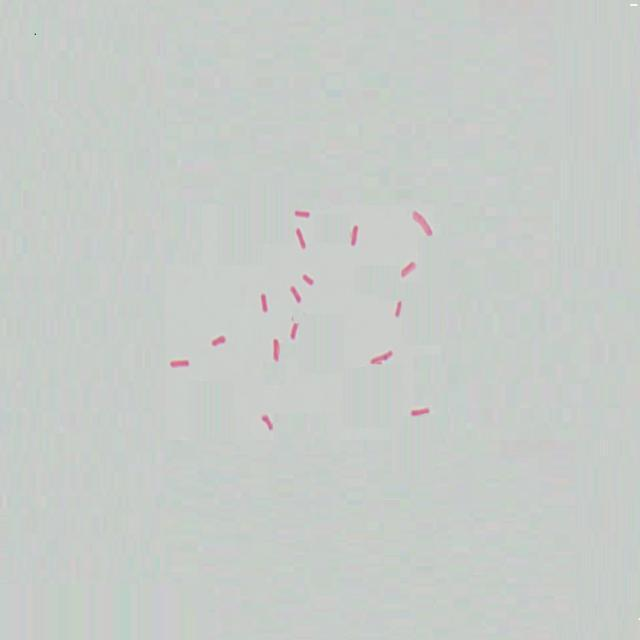E-coli: (411, 205, 435, 238), (366, 347, 398, 367), (259, 408, 276, 436), (390, 297, 407, 324), (399, 260, 417, 282), (208, 332, 227, 352), (295, 227, 309, 253), (258, 290, 272, 316), (168, 357, 194, 371), (409, 406, 431, 421), (271, 339, 284, 364), (293, 203, 311, 221), (288, 320, 299, 346), (289, 282, 300, 307), (301, 269, 314, 290), (349, 223, 359, 249)
